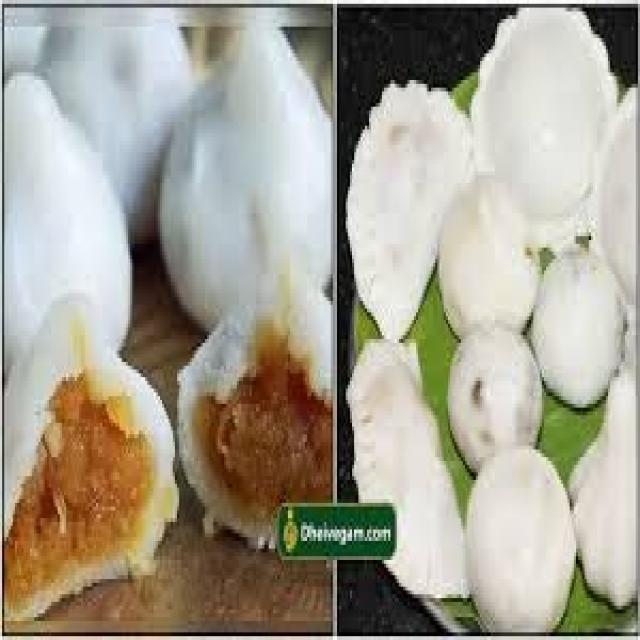poorna kolukattai: (8, 4, 374, 597), (350, 3, 640, 633)
